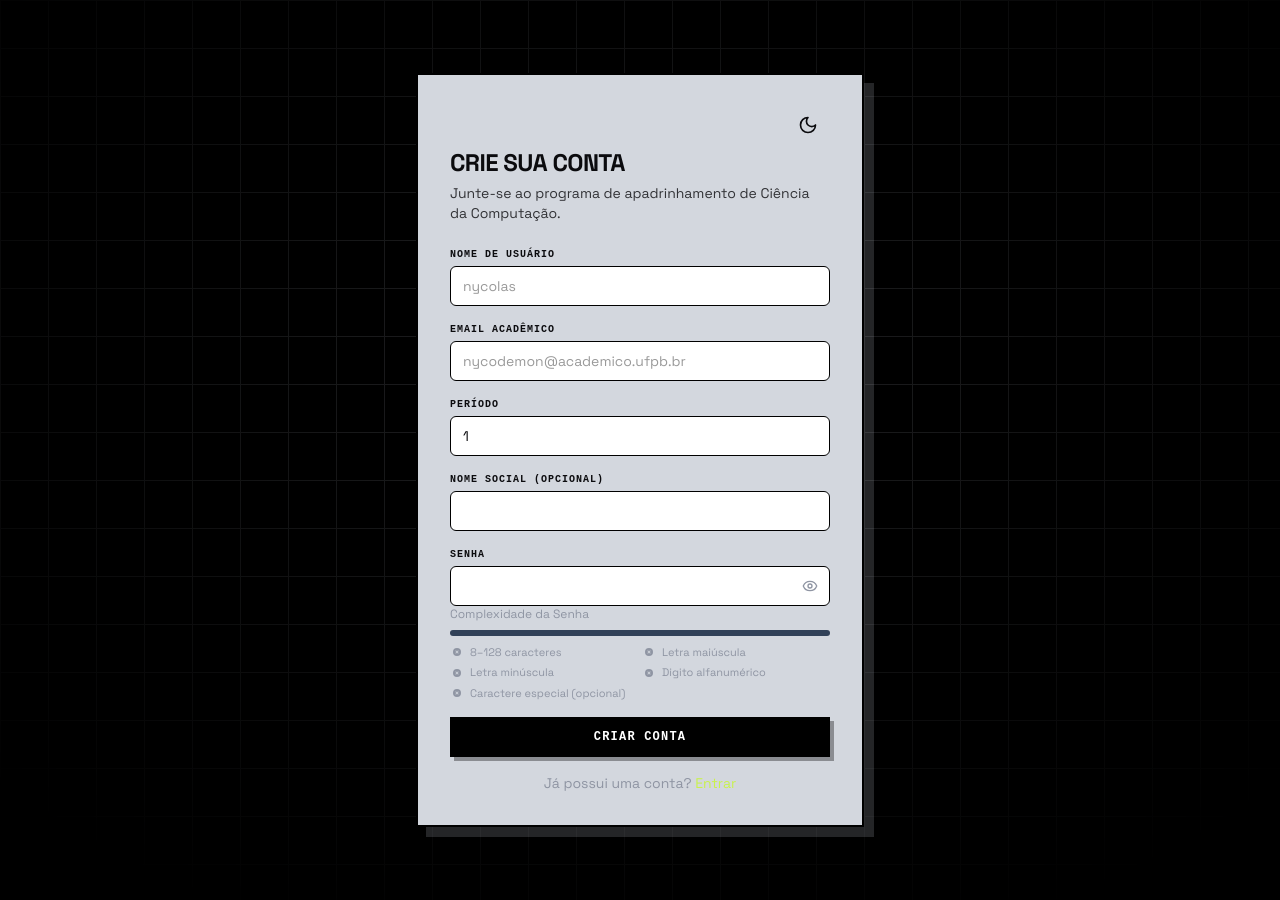
RegisterPage › shows a friendly error when registration rejects
Type "new_student" into the field labelled "Nome de usuário" at (640, 286), box [450,266,830,306]
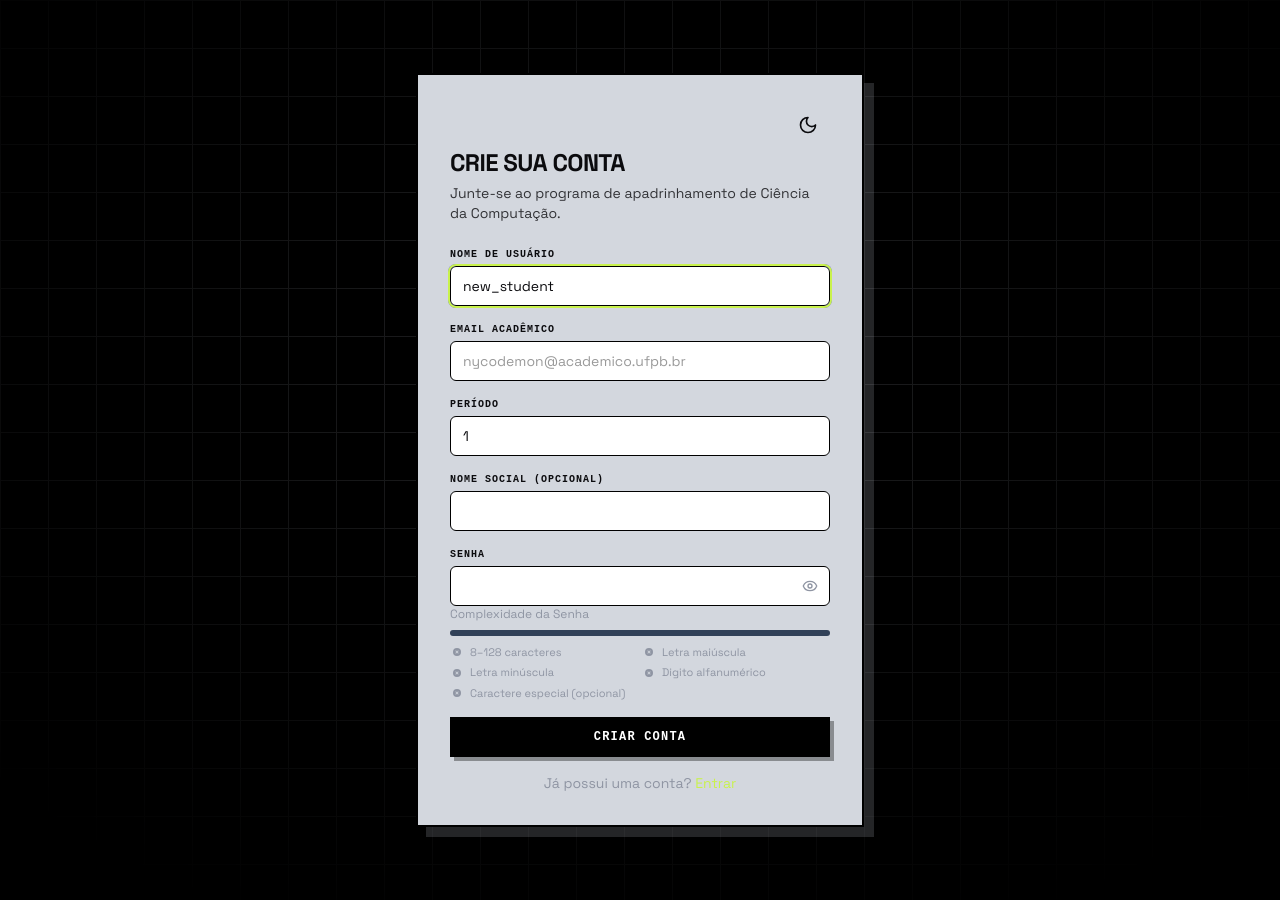
Type "new_student@cs.uni.edu" into the field labelled "Email Acadêmico" at (640, 361), box [450,341,830,381]
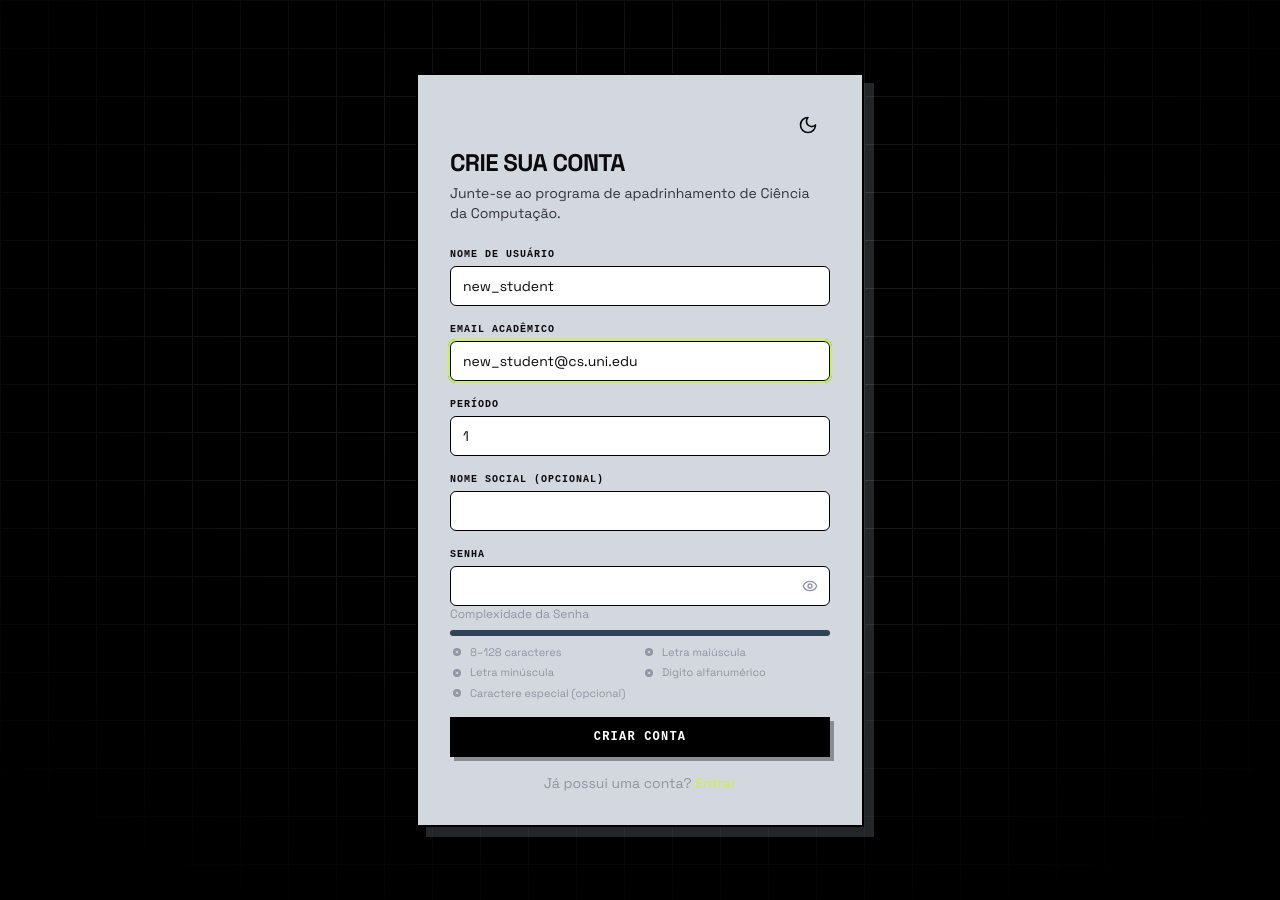
Replace the text in the number field labelled "Período" with "2" at (640, 436), box [450,416,830,456]
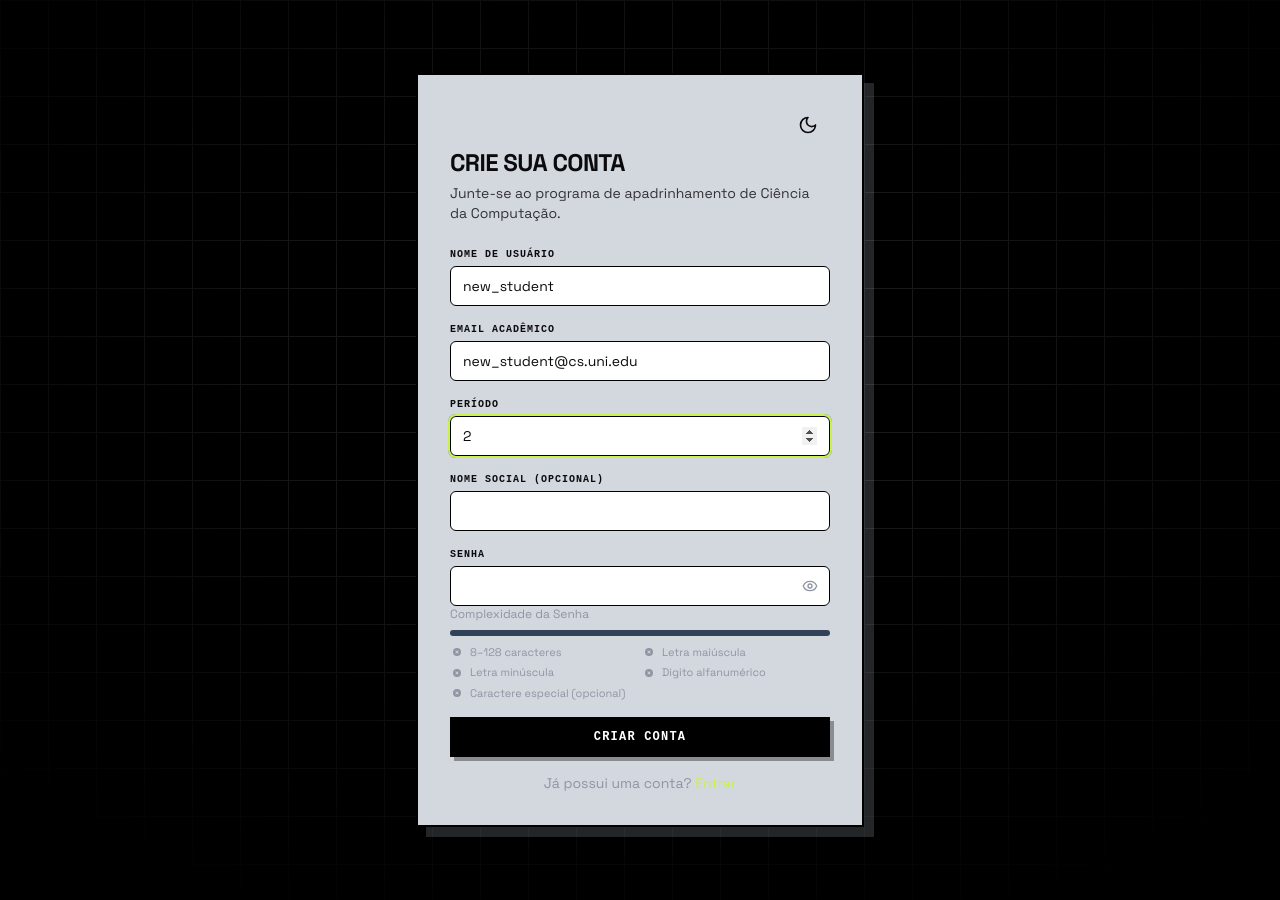
Type "StrongPassword123!" into the password field labelled "Senha" at (640, 586), box [450,566,830,606]
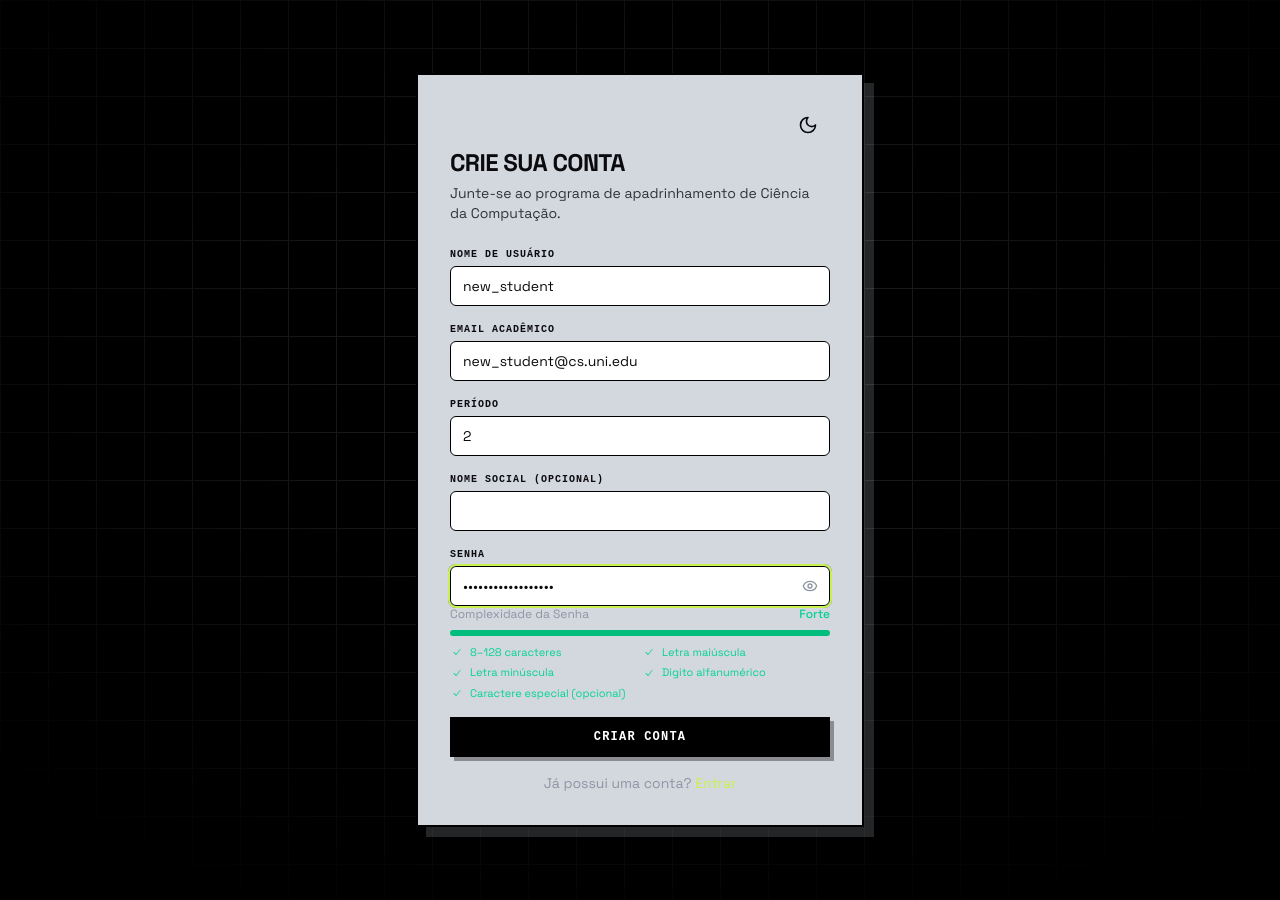
Click the button "Criar conta" at (640, 737), box [450,717,830,757]
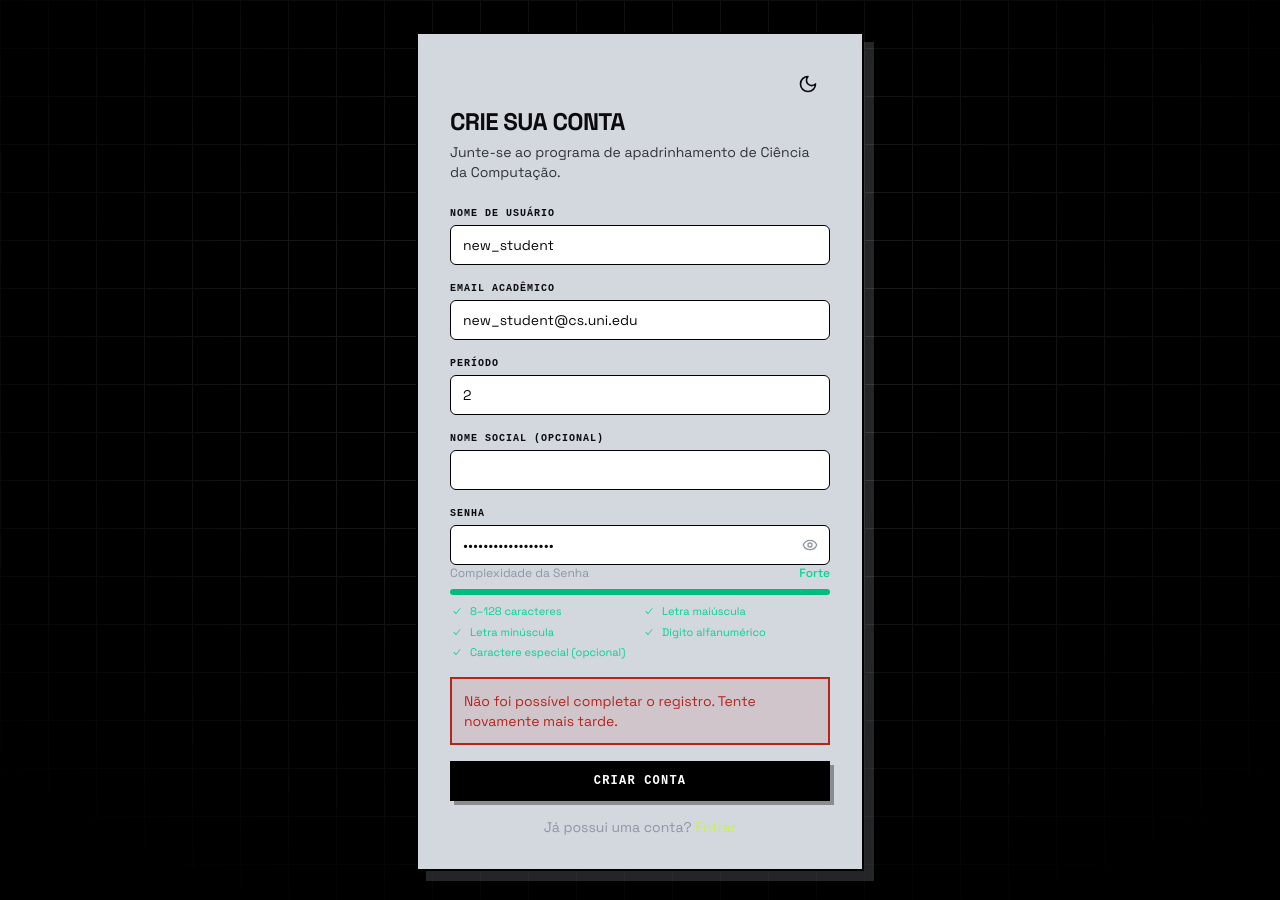
Check: the message shows "Não foi possível completar o registro", box [464,692,756,730]
